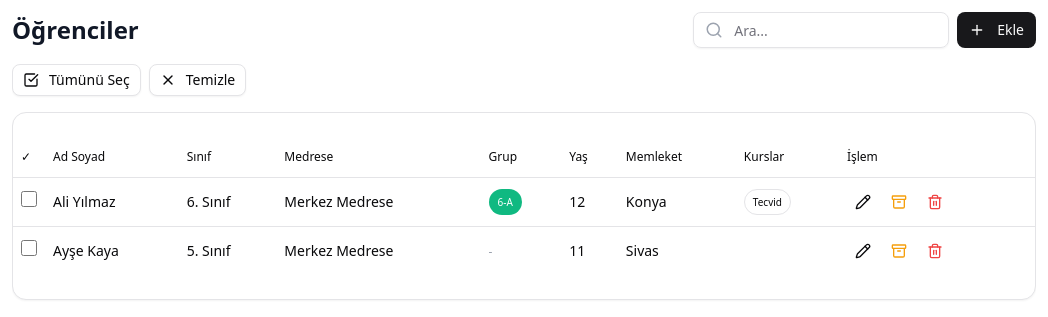
Test case: StudentsPage › shows the bulk transfer action after selecting a student
What coordinates should you click on to do the following:
click the checkbox next to "Ali"
I would click on:
 (29, 199)
Its box is [21, 191, 37, 207].
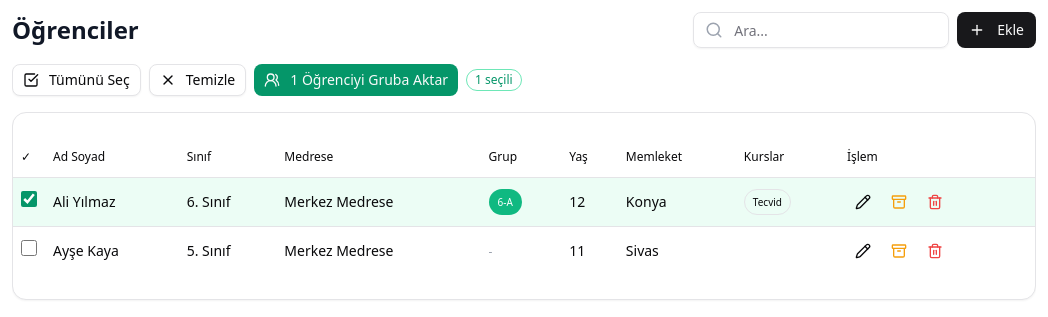
Now the button "1 Öğrenciyi Gruba Aktar" is shown, box [254, 64, 458, 96]
